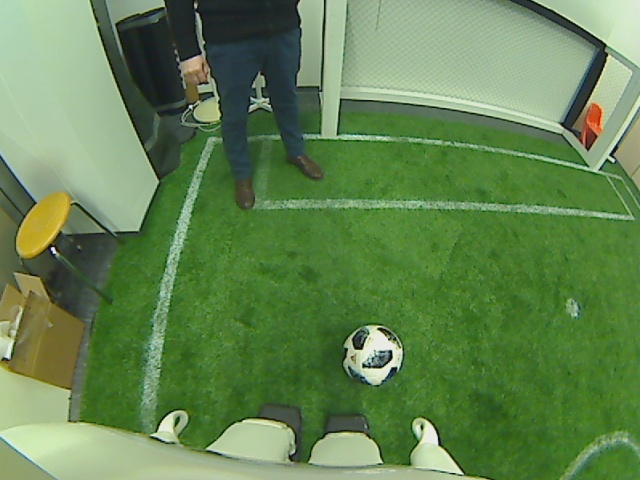ball: (339, 322, 404, 390)
